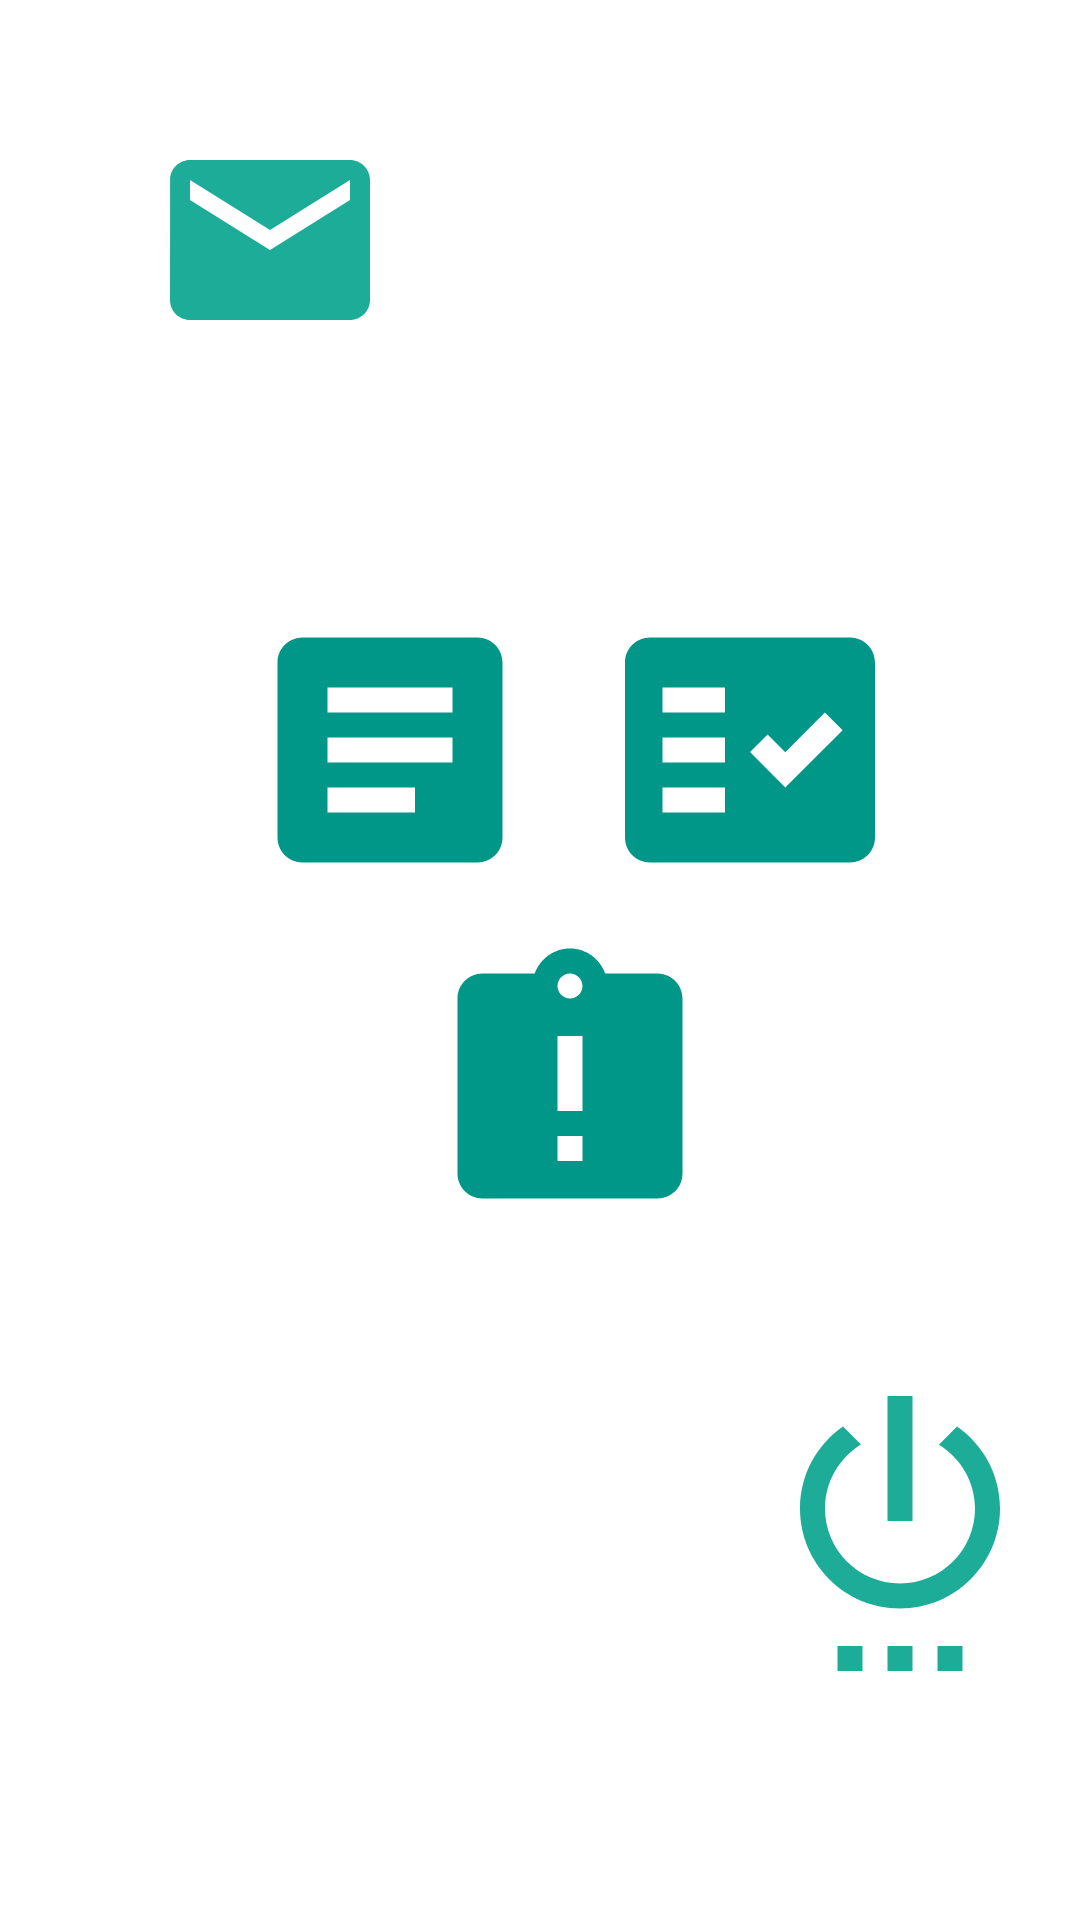

Where icons sit on this 1080px×1920px app screen, as (x1, y1, x2, y2):
article: (277, 637, 503, 863)
assignment late: (457, 948, 683, 1199)
fact check: (625, 637, 875, 863)
off: (800, 1396, 1000, 1671)
